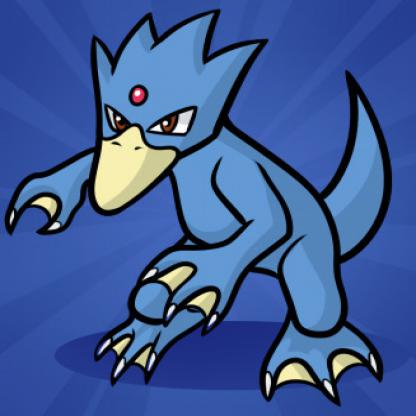Golduck: (19, 7, 408, 410)
